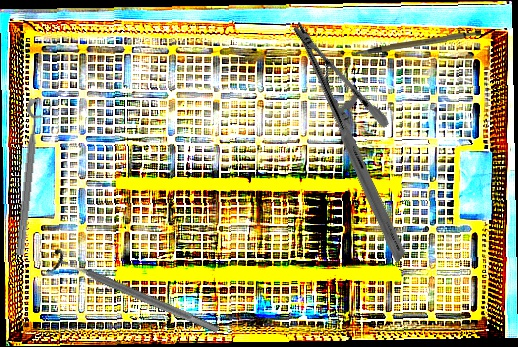Fixation Ring: (45, 246, 224, 344), (11, 98, 54, 257)
Needle Holder: (218, 20, 480, 263)
Scalpel Handle: (355, 27, 482, 56)
